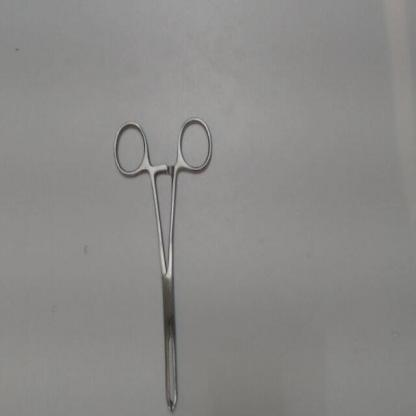Allis Tissue Forceps: (109, 104, 223, 414)
